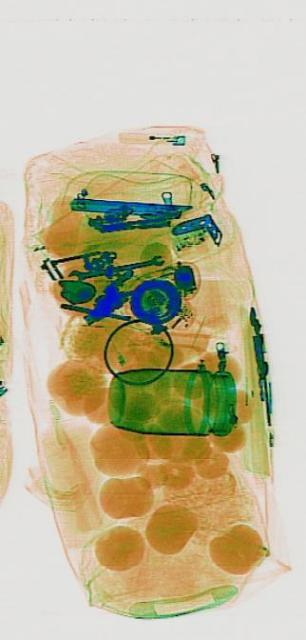Wrench: (65, 250, 161, 284)
